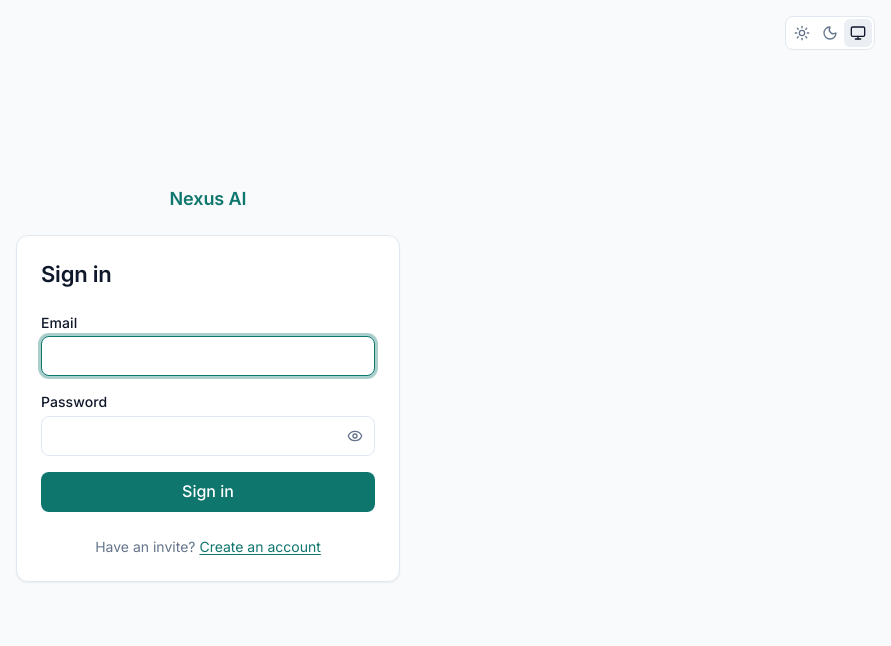
login page › shows a calm connectivity message when the network is down
The width and height of the screenshot is (891, 646).
Type "marco@example.com" into the field labelled "Email".
click(208, 356); type("marco@example.com")  # box [41,336,375,376]
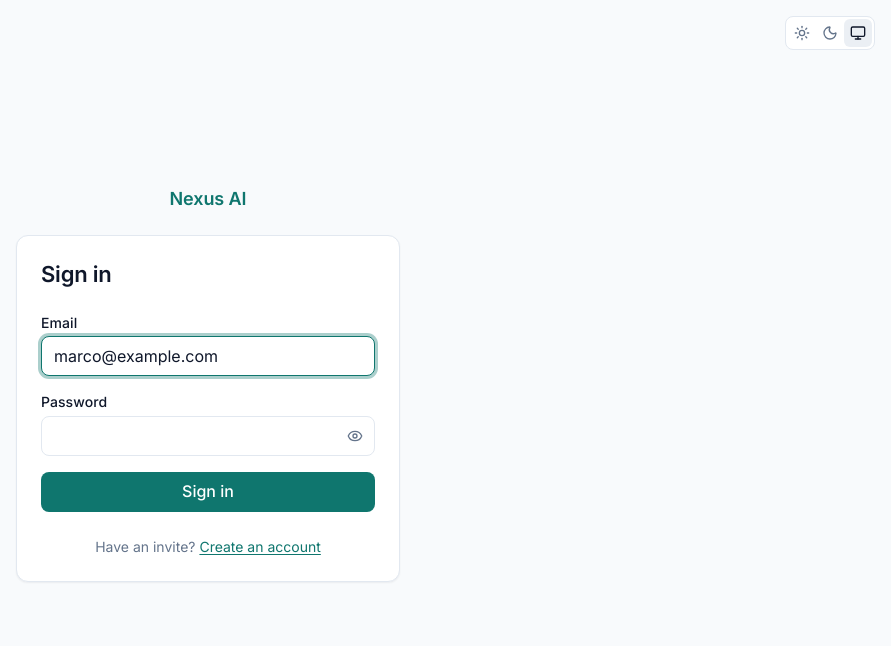
Type "whatever-password" into the password field labelled "Password".
click(208, 436); type("whatever-password")  # box [41,416,375,456]
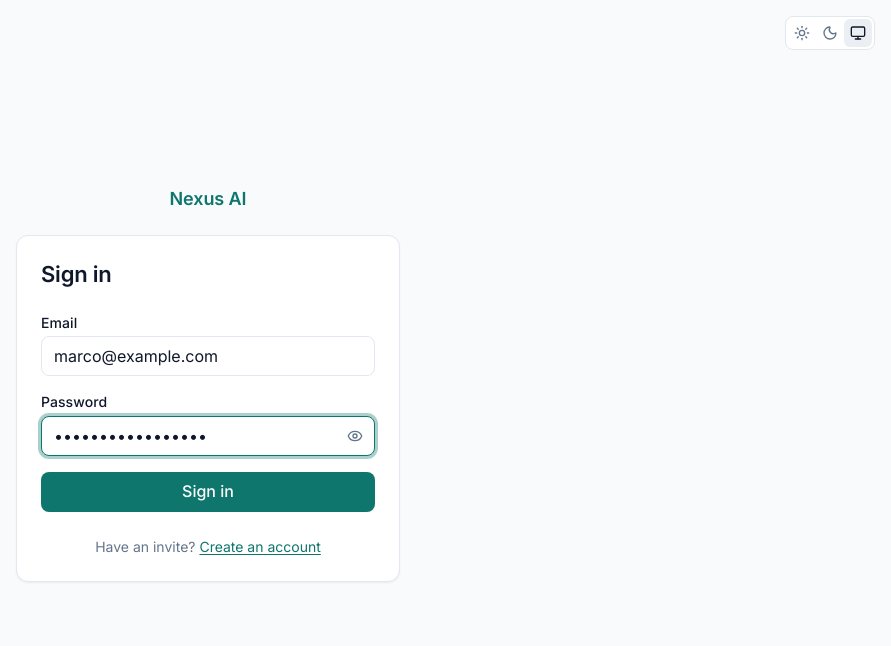
Click the button "Sign in".
click(208, 492)  # box [41,472,375,512]
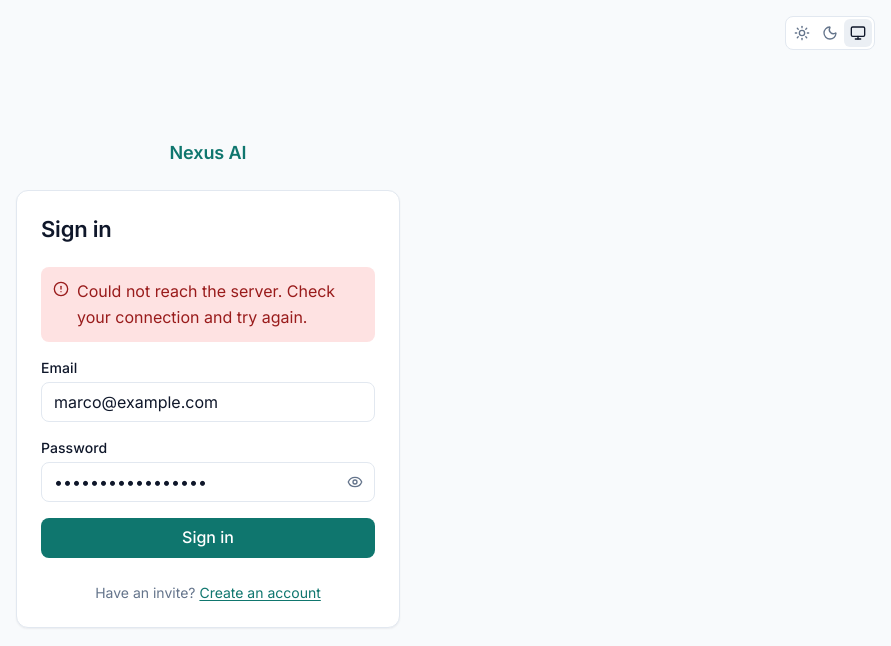
Result: the message shows "Could not reach the server" at [77,281,335,327]
